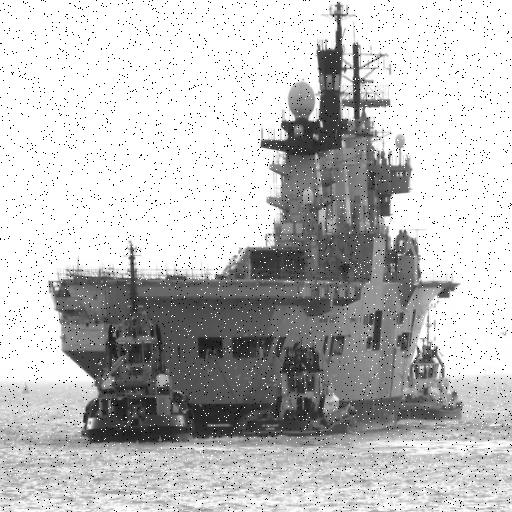Portanaves: (47, 1, 462, 438)
